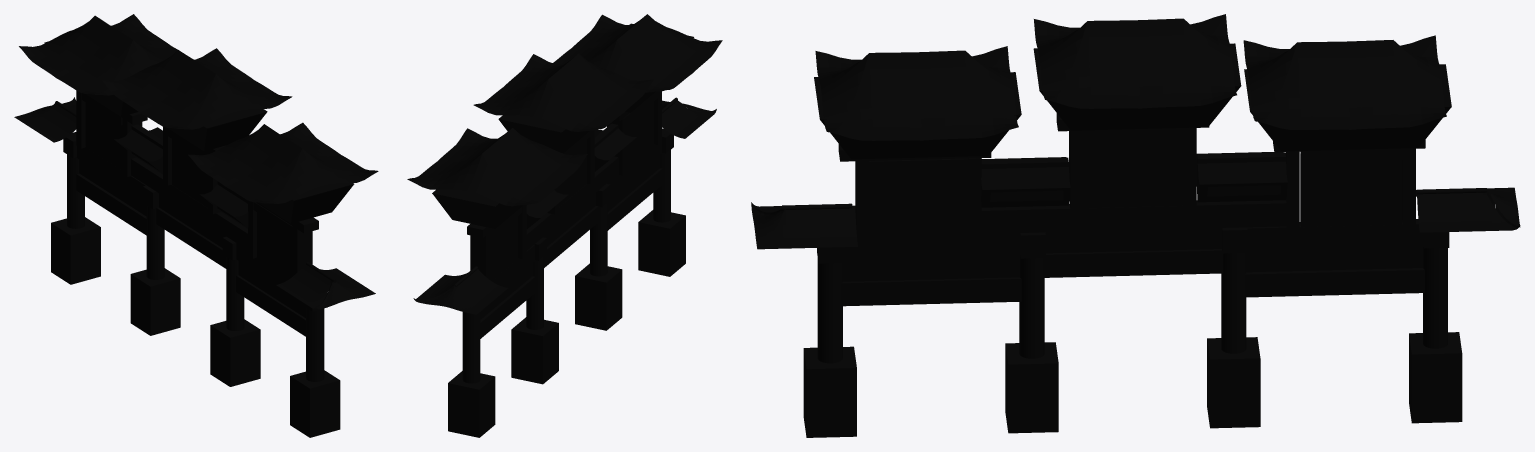
File: 云辉玉宇牌坊.gltf
3 views of the same model, side by side, from view 1: azimuth 30°, elevation 25°; view 2: azimuth 150°, elevation 25°; view 3: azimuth 270°, elevation 25° (orthographic). The views are drawn at different scales.
Visible parts, largest first — view 1: 立方体.027; view 2: 立方体.027; view 3: 立方体.027.
Boxes of the visible parts, bbox=[...] form: 立方体.027: bbox=[14, 14, 378, 437]; 立方体.027: bbox=[407, 14, 722, 437]; 立方体.027: bbox=[751, 14, 1520, 437].
Bounding box in the file's own units: 4.53 × 8.77 × 15.23.
Materials: 1 (1 with a texture image).
